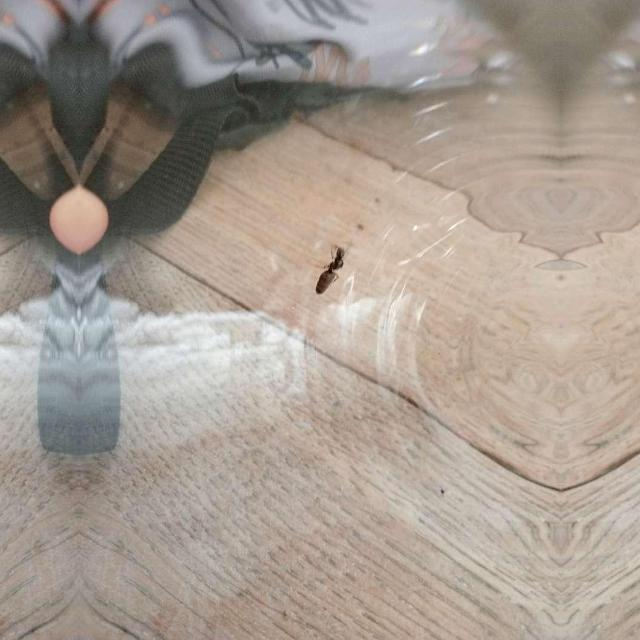Lasius: (314, 238, 348, 300)
